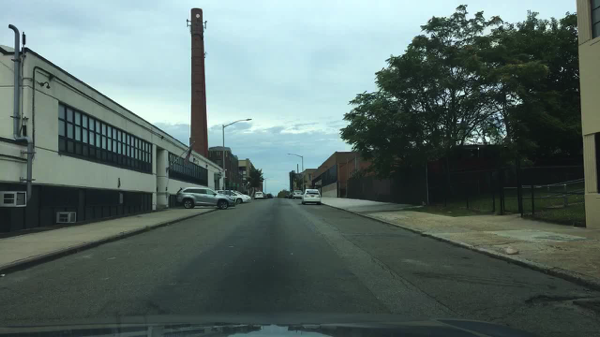car: (176, 185, 236, 209), (215, 190, 250, 204), (302, 189, 321, 205), (230, 190, 251, 202), (293, 190, 304, 199), (252, 191, 264, 198), (289, 191, 293, 197)
